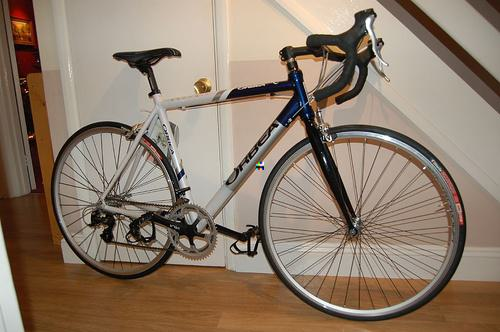car: (52, 9, 469, 323)
